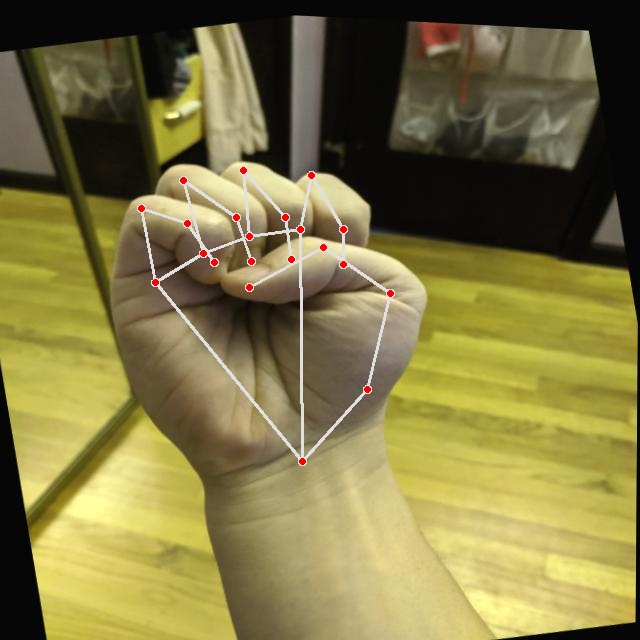E: (76, 113, 465, 510)
